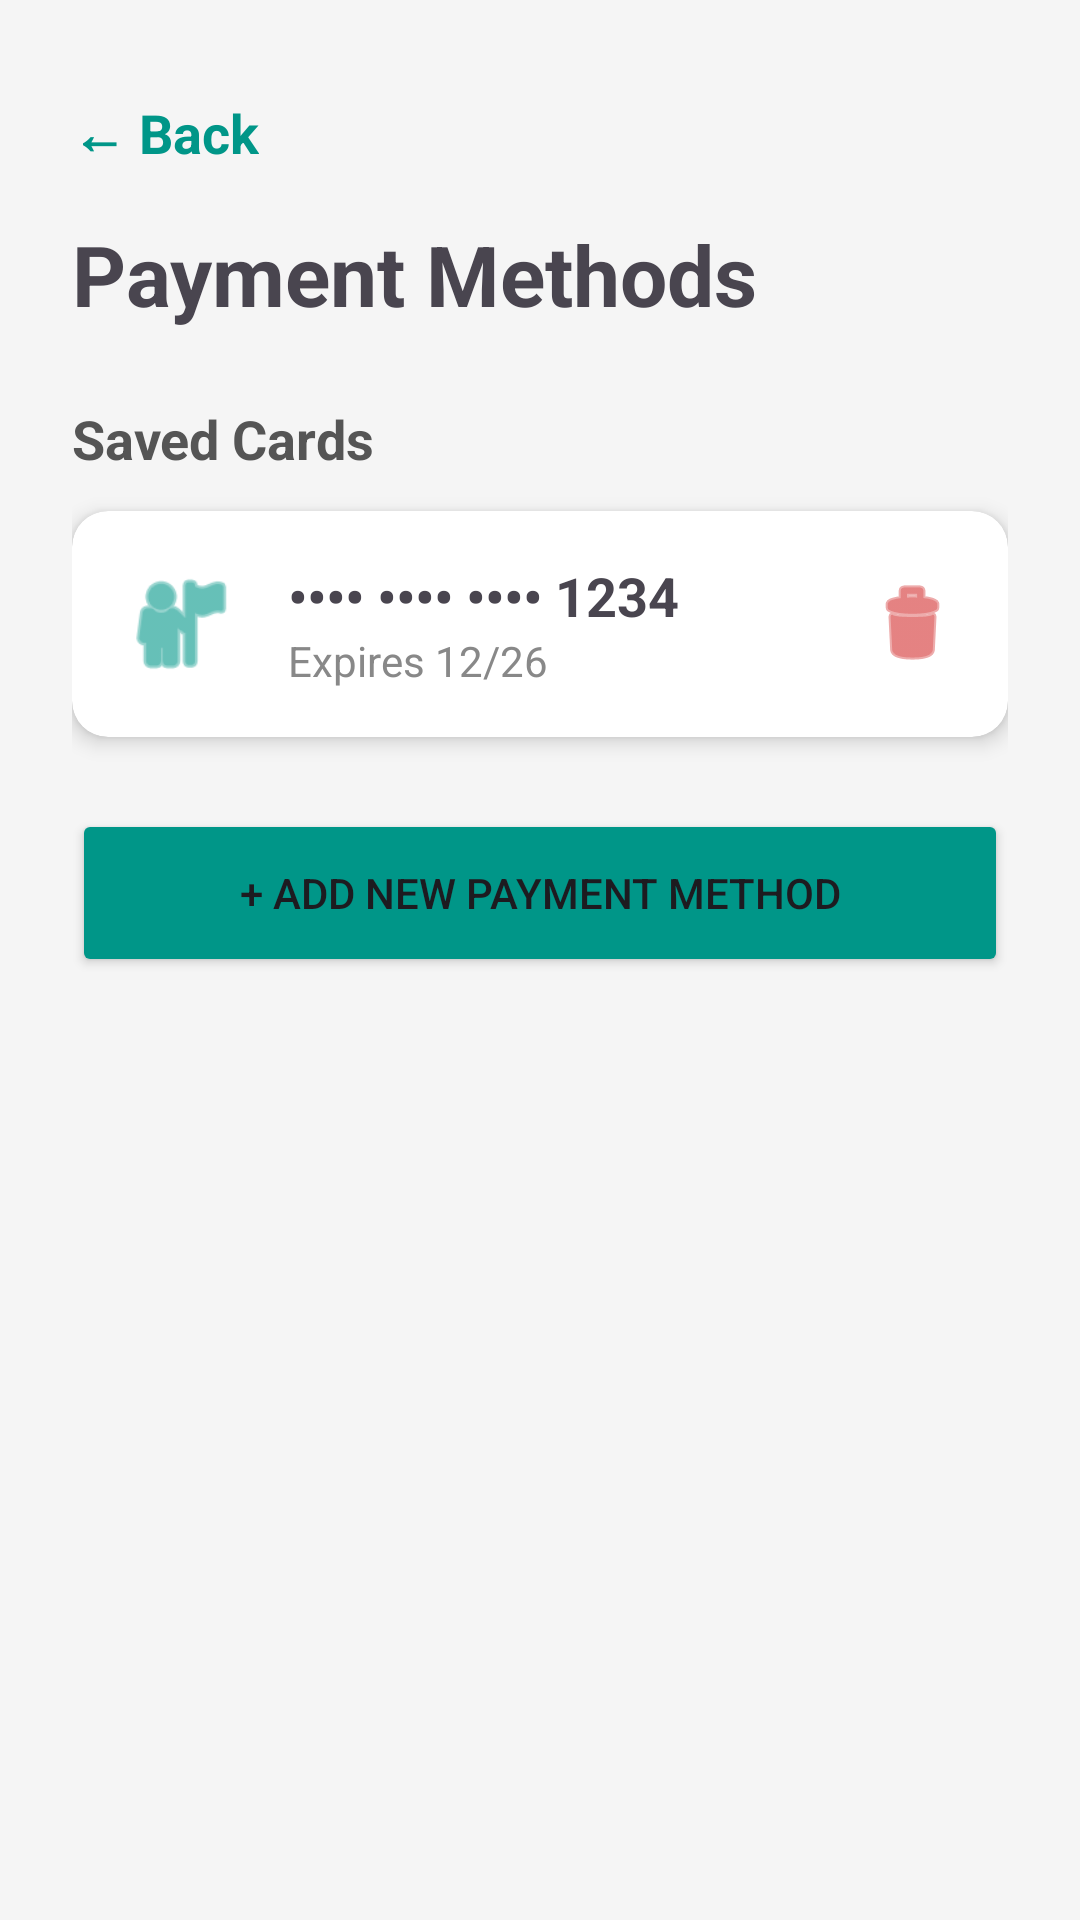

Locate icon controls on the screen. Image size 1080x1920, boxes as [left=x1, top=y1, right=x2, bottom=y2].
delete: [left=885, top=585, right=940, bottom=660]
